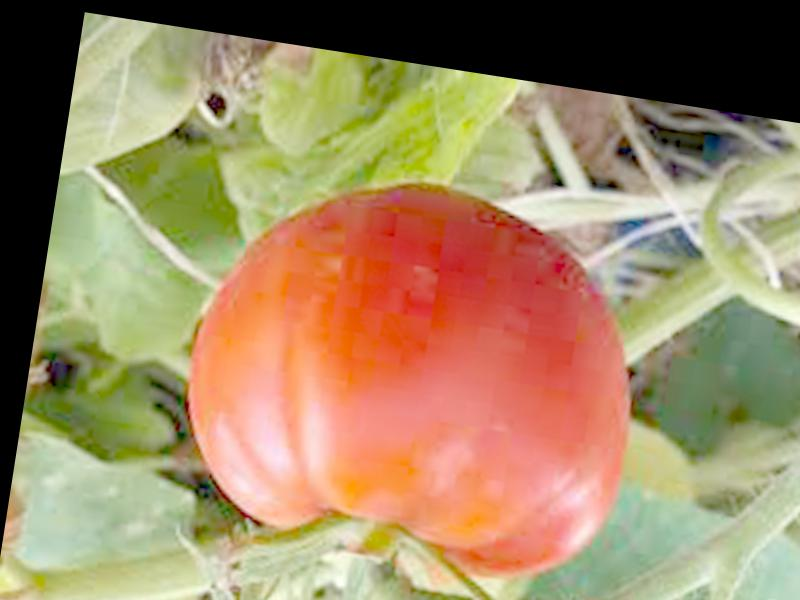Tomato: (165, 156, 664, 595)
